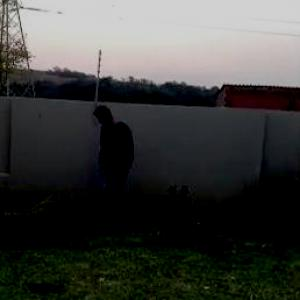follow: (94, 94, 137, 237)
